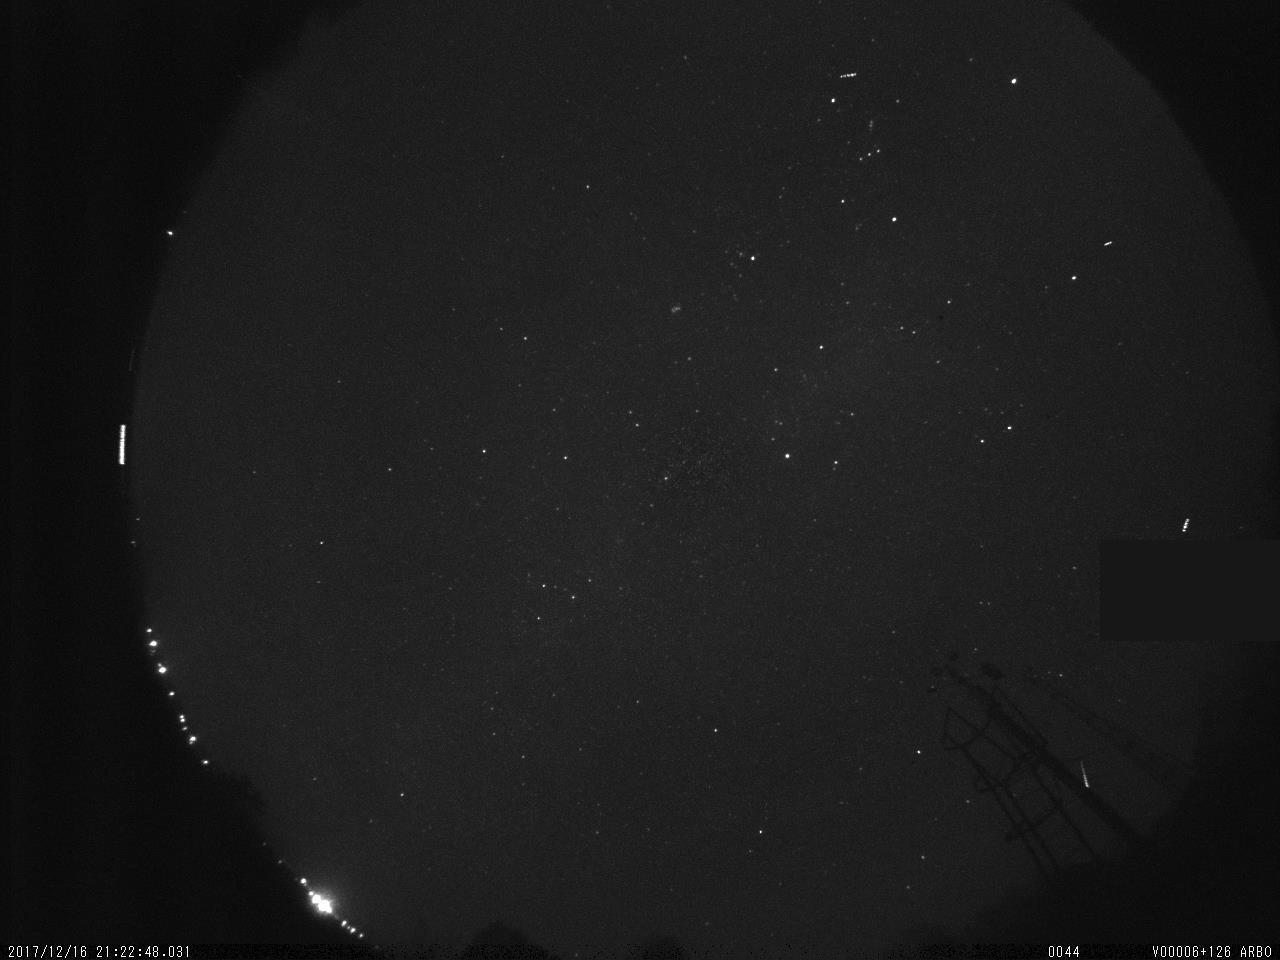meteor: (1070, 759, 1098, 793)
